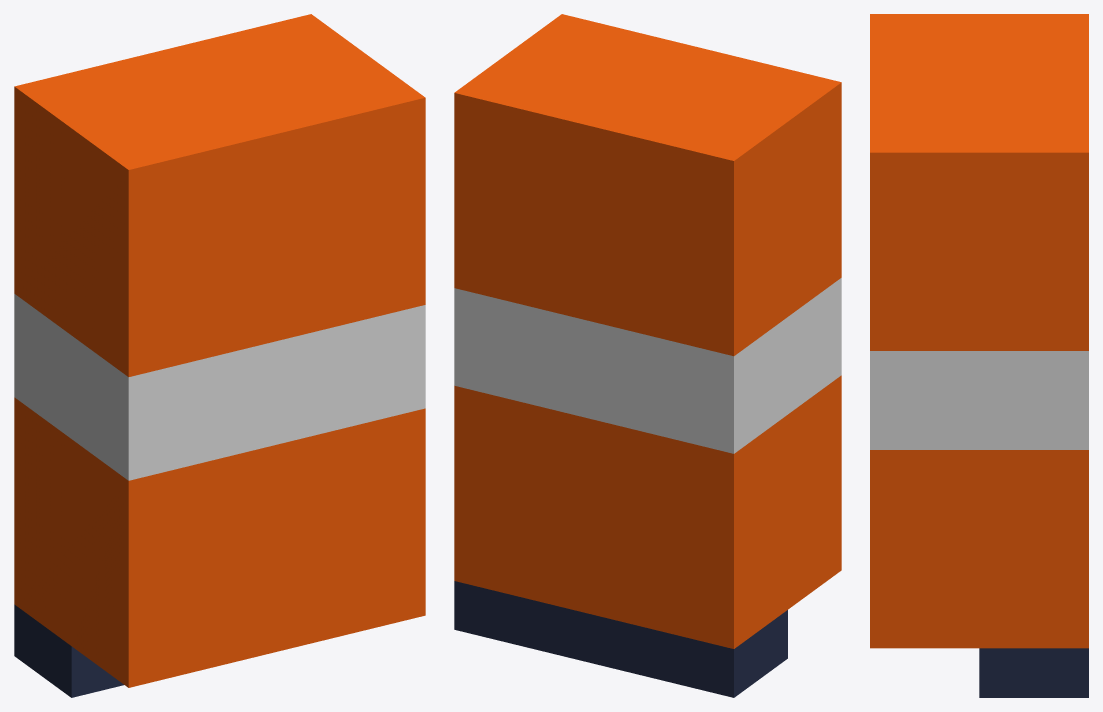
File: torso.obj
3 renders of one model, left to right at view 1: azimuth 30°, elevation 25°; view 2: azimuth 150°, elevation 25°; view 3: azimuth 270°, elevation 25°, orthographic. The views are drawn at different scales.
Bounding box in the file's own units: 0.6 × 1.1 × 0.4.
1 material, 1 textured.
